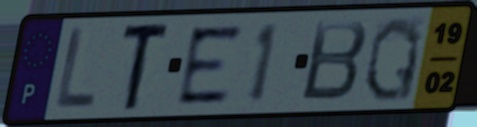1: (248, 19, 281, 107)
B: (298, 17, 371, 104)
E: (176, 21, 246, 108)
L: (52, 25, 99, 112)
Q: (360, 13, 424, 105)
T: (119, 19, 174, 114)
